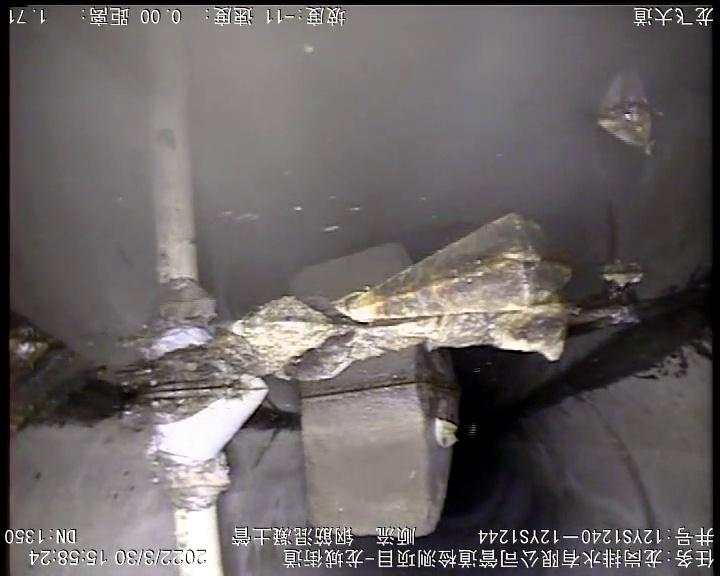YWCR: (150, 378, 267, 576)
ZAW: (171, 216, 632, 535)
